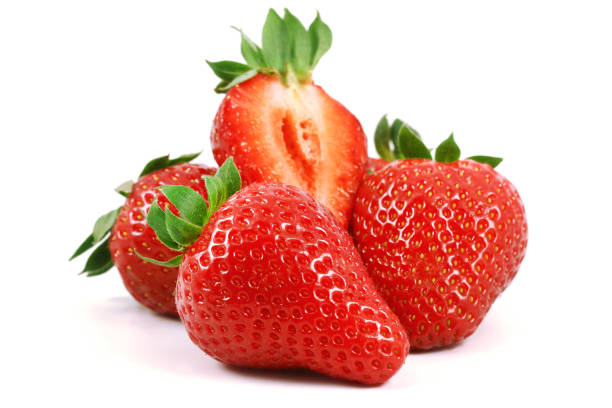Fresa: (170, 179, 418, 390), (344, 151, 535, 355), (206, 52, 374, 227), (106, 150, 232, 321)
